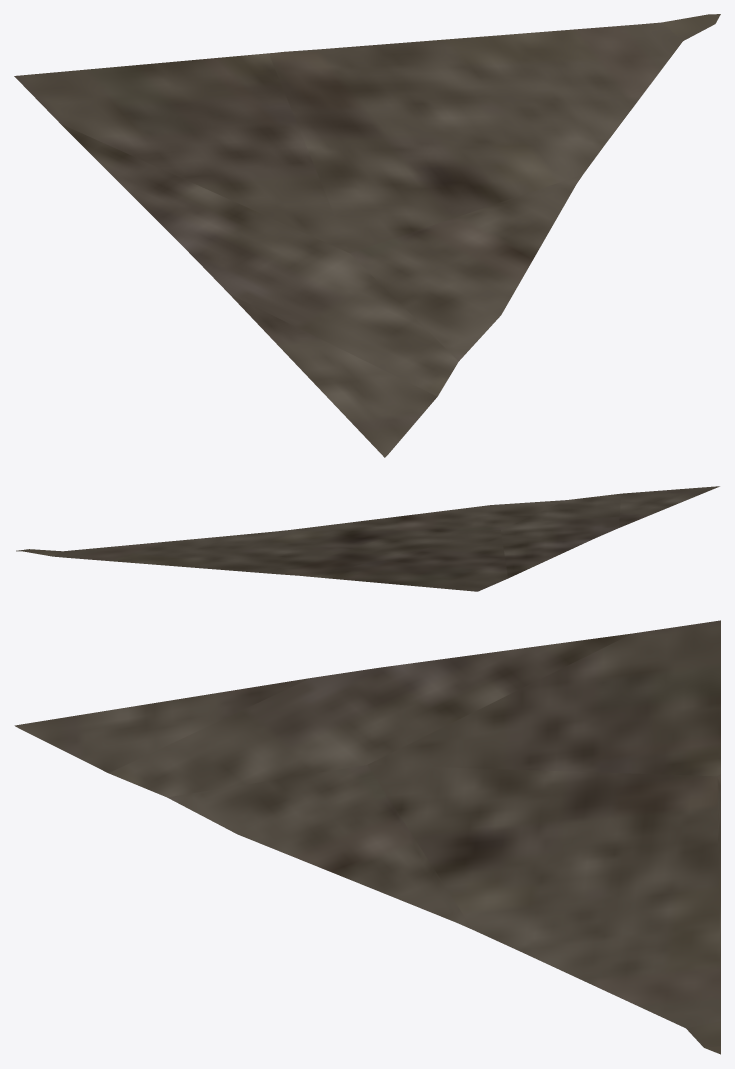
3 renders of one model, top to bottom at view 1: azimuth 30°, elevation 25°; view 2: azimuth 150°, elevation 25°; view 3: azimuth 270°, elevation 25°, orthographic. The views are drawn at different scales.
Bounding box in the file's own units: 0.2813 × 0.042 × 0.2555.
1 material, 1 textured.
